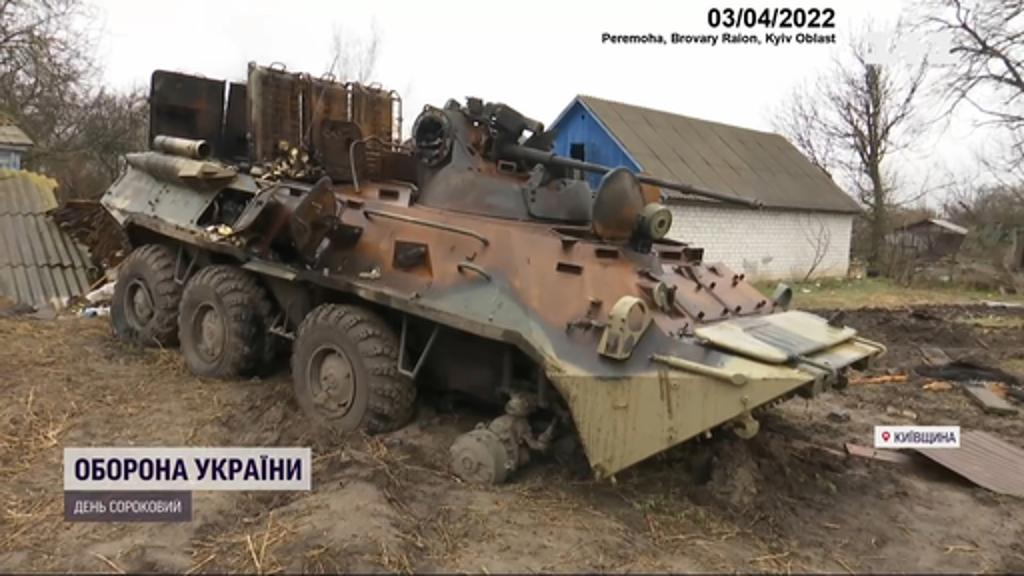APC-IFV: (56, 70, 884, 492)
